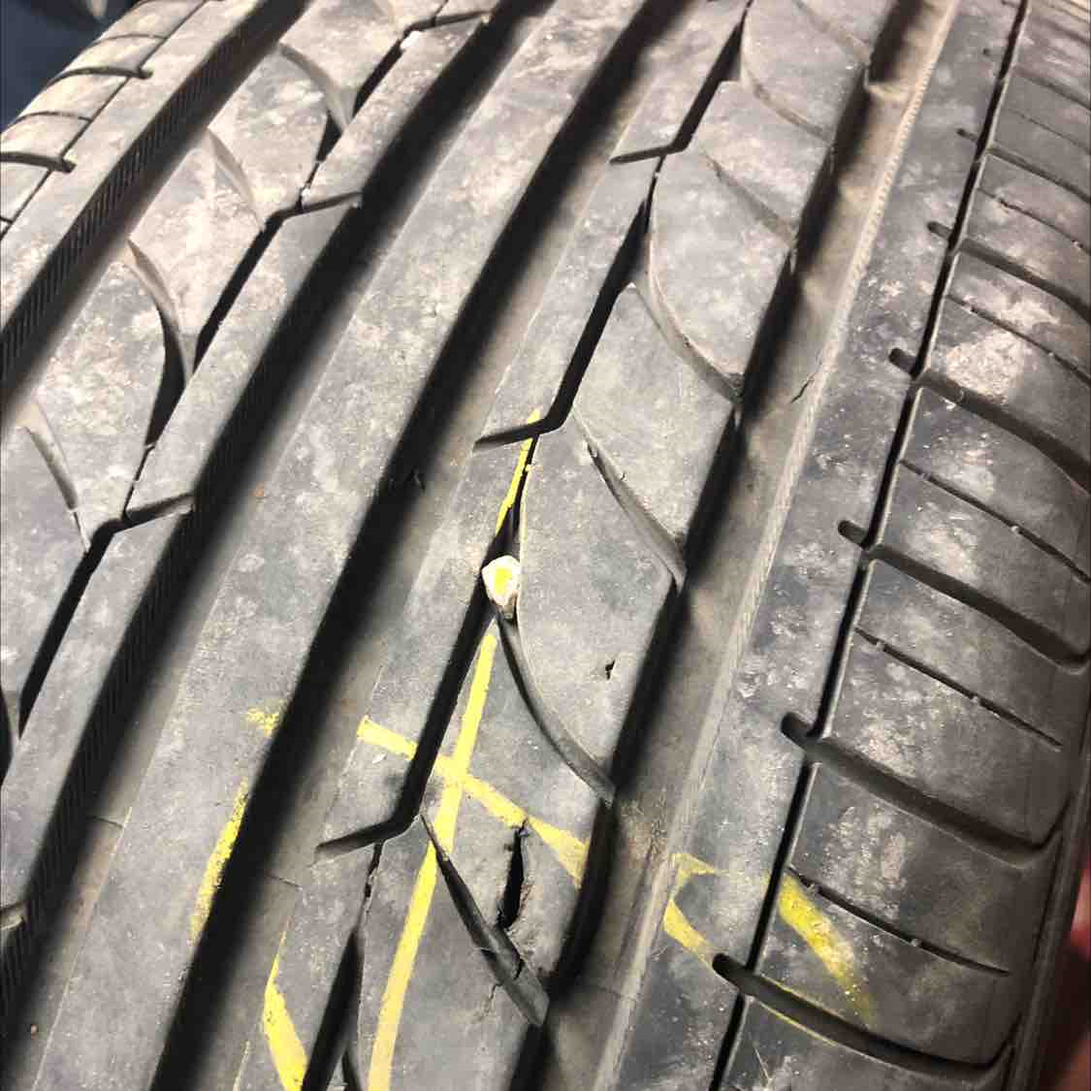tr: (483, 808, 542, 984)
